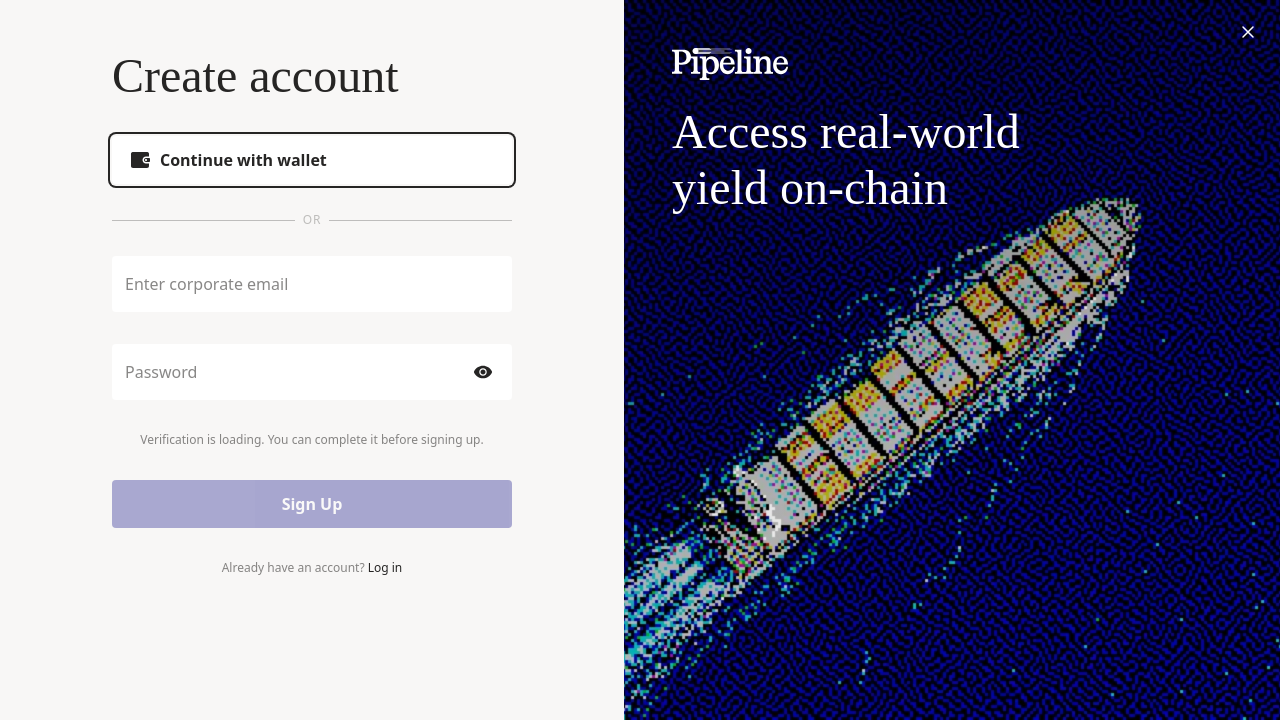
Test: CreateAccountModal (#1249) › valid credentials enable Sign Up while verification is loading
Type "lp@example.com" into the field with placeholder "Enter corporate email". click: point(312, 284)
box: [125, 273, 499, 295]
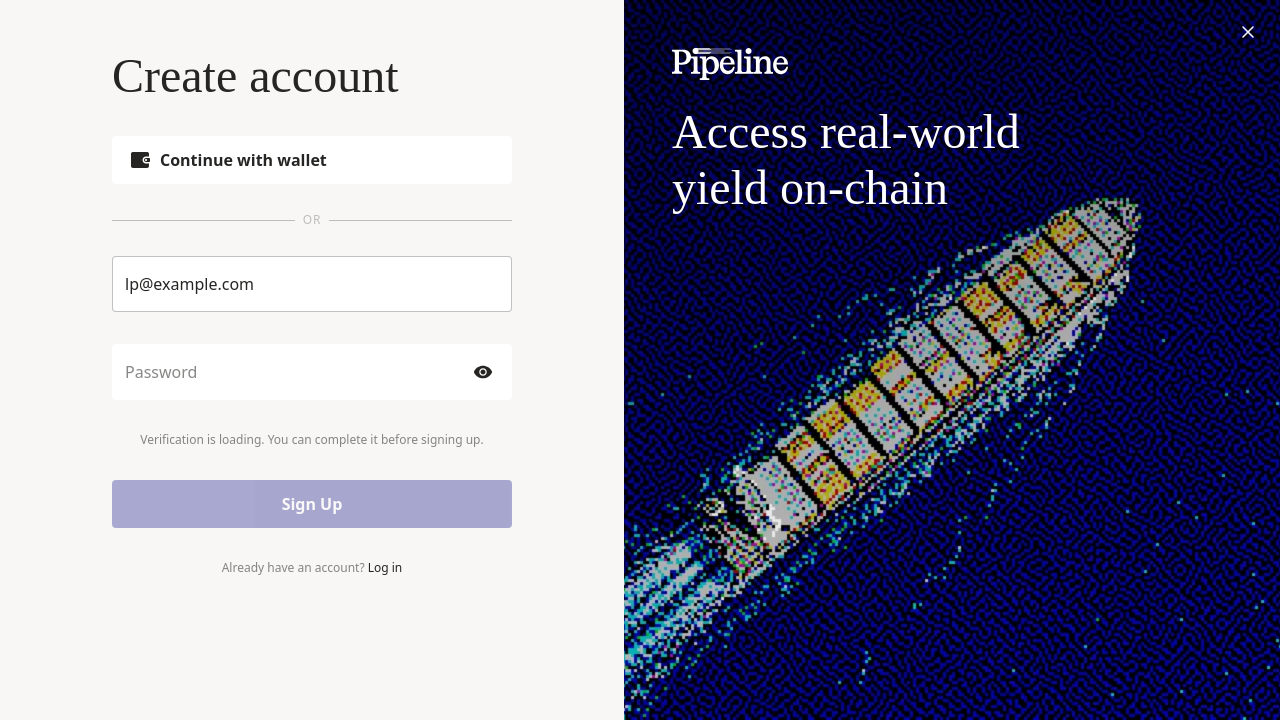
Type "P@ssw0rd!" into the password field with placeholder "Password". click: point(294, 372)
box: [125, 361, 463, 383]
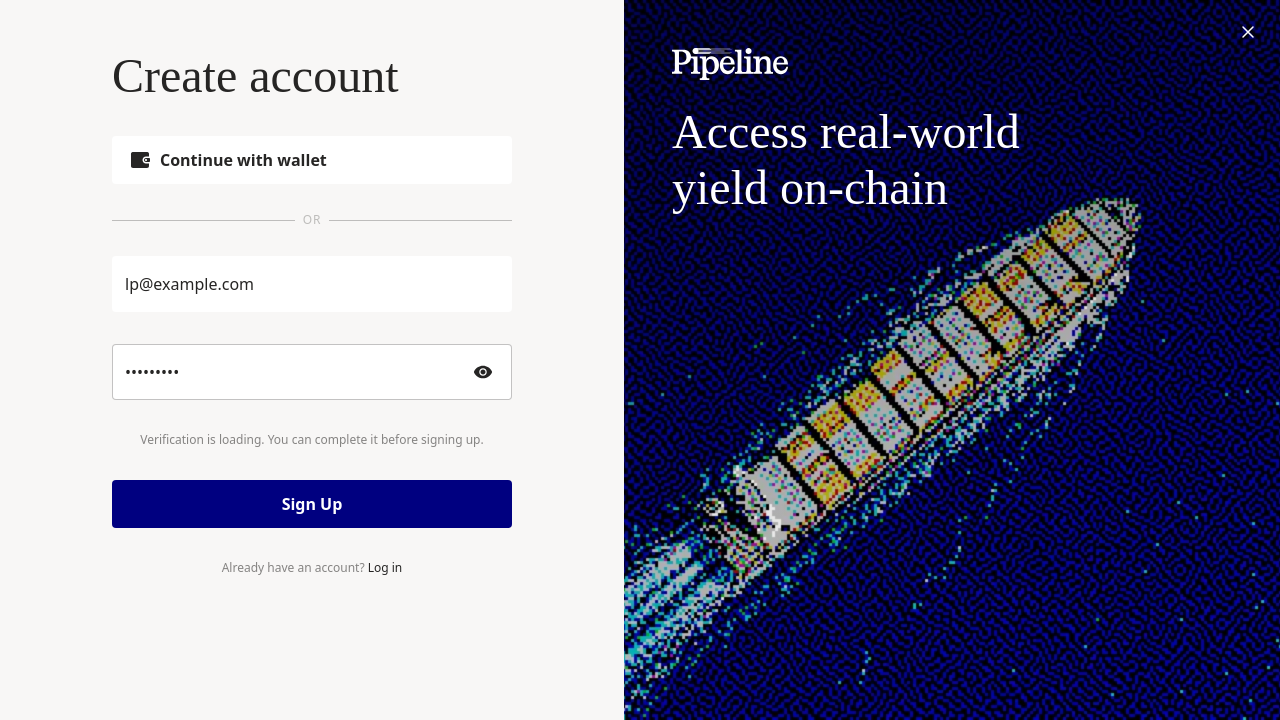
Check: the message shows "Verification is loading", box [140, 431, 484, 448]
Check: the button "Sign Up" is enabled, box [112, 480, 512, 528]
